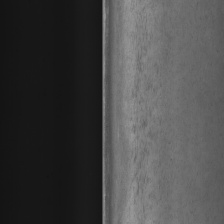silk_spot: (128, 13, 169, 215)
